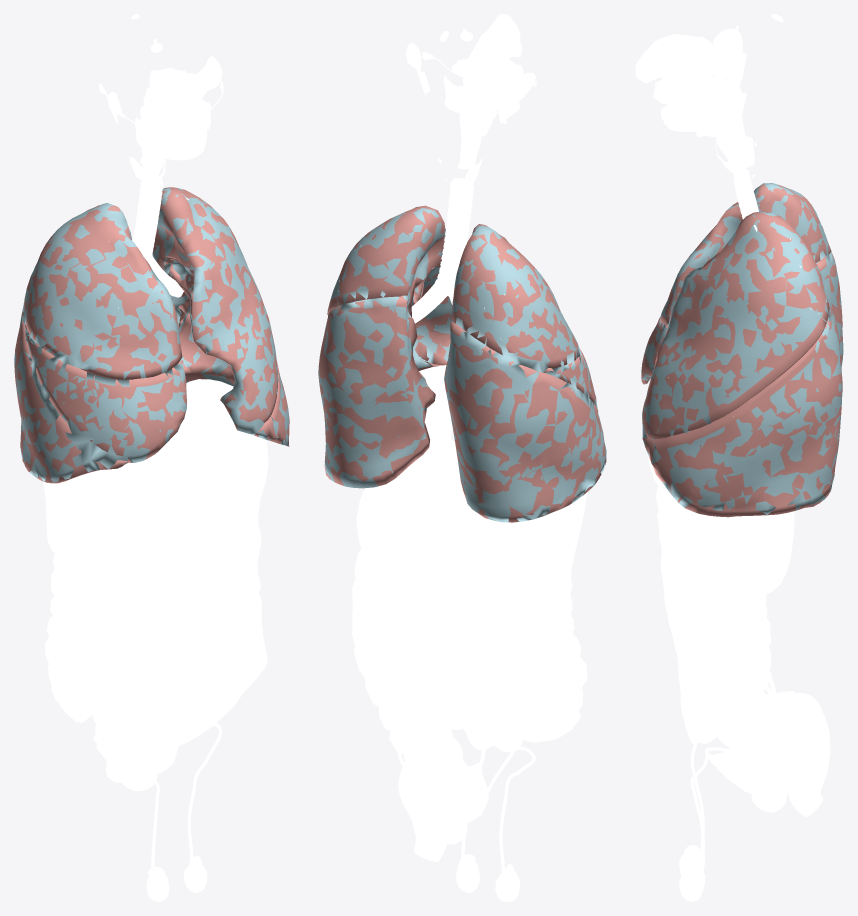
Rendered from visceral_system.glb.
The picture shows the model from 3 angles, left to right: view 1: azimuth 30°, elevation 25°; view 2: azimuth 150°, elevation 25°; view 3: azimuth 270°, elevation 25°; orthographic projection. The views are drawn at different scales.
Visible parts, largest first — view 1: Greater omentum, Pleura, Liver, Superior lobe of right lung, Superior lobe of left lung, Middle lobe of right lung, Ascending colon, Inferior lobe of right lung, Stomach, Gingiva, Inferior lobe of left lung, Urinary bladder (+6 smaller); view 2: Pleura, Jejunum, Inferior lobe of right lung, Inferior lobe of left lung, Ascending colon, Descending colon, Superior lobe of left lung, Superior lobe of right lung, Sigmoid colon, Liver, Kidney.l, Kidney.r (+21 smaller); view 3: Pleura, Superior lobe of left lung, Inferior lobe of left lung, Descending colon, Greater omentum, Sigmoid colon, Superior lobe of right lung, Mucosa of nasal cavity, Kidney.l, Urinary bladder, Gingiva, Stomach (+14 smaller).
Boxes of the visible parts, left/top/right/bottom form: Greater omentum: left=64, top=488, right=267, bottom=748; Pleura: left=14, top=187, right=289, bottom=482; Liver: left=43, top=379, right=260, bottom=558; Superior lobe of right lung: left=24, top=205, right=182, bottom=379; Superior lobe of left lung: left=153, top=187, right=277, bottom=430; Middle lobe of right lung: left=24, top=324, right=186, bottom=462; Ascending colon: left=45, top=553, right=97, bottom=722; Inferior lobe of right lung: left=14, top=303, right=127, bottom=483; Stomach: left=169, top=438, right=268, bottom=534; Gingiva: left=135, top=98, right=211, bottom=160; Inferior lobe of left lung: left=175, top=307, right=289, bottom=446; Urinary bladder: left=101, top=732, right=178, bottom=777; Pleura: left=318, top=207, right=606, bottom=522; Jejunum: left=390, top=529, right=532, bottom=752; Inferior lobe of right lung: left=444, top=321, right=606, bottom=522; Inferior lobe of left lung: left=318, top=296, right=442, bottom=486; Ascending colon: left=515, top=566, right=587, bottom=742; Descending colon: left=352, top=548, right=464, bottom=776; Superior lobe of left lung: left=327, top=205, right=450, bottom=365; Superior lobe of right lung: left=451, top=224, right=577, bottom=368; Sigmoid colon: left=398, top=730, right=462, bottom=861; Liver: left=419, top=365, right=586, bottom=576; Kidney.l: left=356, top=484, right=417, bottom=575; Kidney.r: left=485, top=525, right=534, bottom=617; Pleura: left=641, top=183, right=843, bottom=514; Superior lobe of left lung: left=642, top=212, right=829, bottom=439; Inferior lobe of left lung: left=642, top=301, right=842, bottom=517; Descending colon: left=713, top=530, right=817, bottom=759; Greater omentum: left=657, top=500, right=726, bottom=744; Sigmoid colon: left=788, top=693, right=830, bottom=816; Superior lobe of right lung: left=660, top=184, right=831, bottom=324; Mucosa of nasal cavity: left=635, top=34, right=710, bottom=83; Kidney.l: left=753, top=511, right=794, bottom=594; Urinary bladder: left=708, top=751, right=797, bottom=797; Gingiva: left=653, top=74, right=717, bottom=131; Stomach: left=656, top=482, right=738, bottom=538.
Bounding box in the file's own units: 0.2618 × 0.8933 × 0.192.
